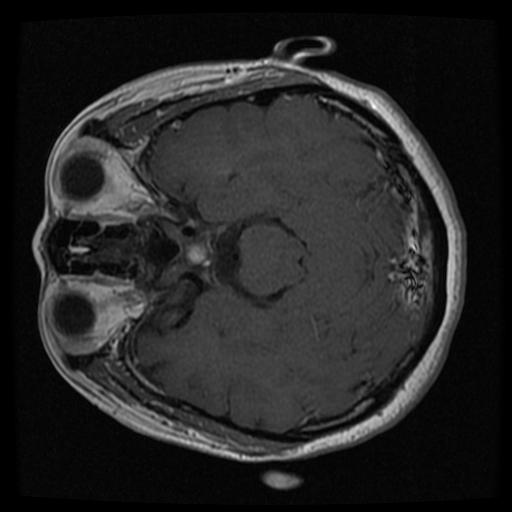pituitary tumour: (177, 233, 211, 273)
